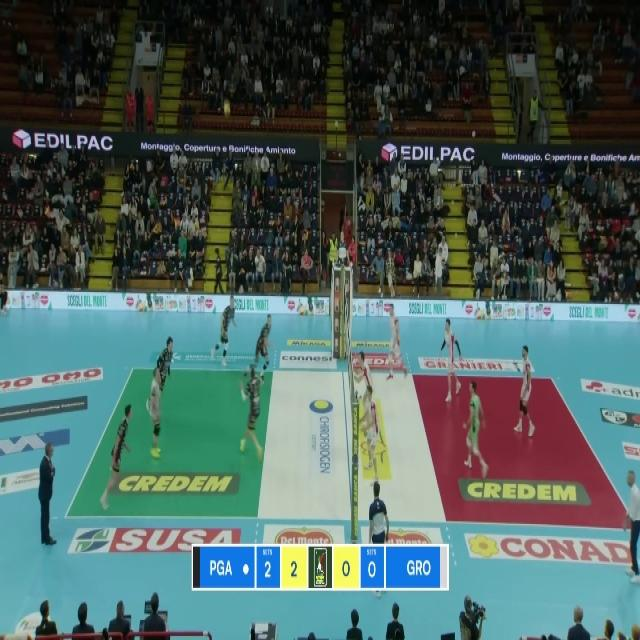volleyball court: (53, 367, 633, 522)
